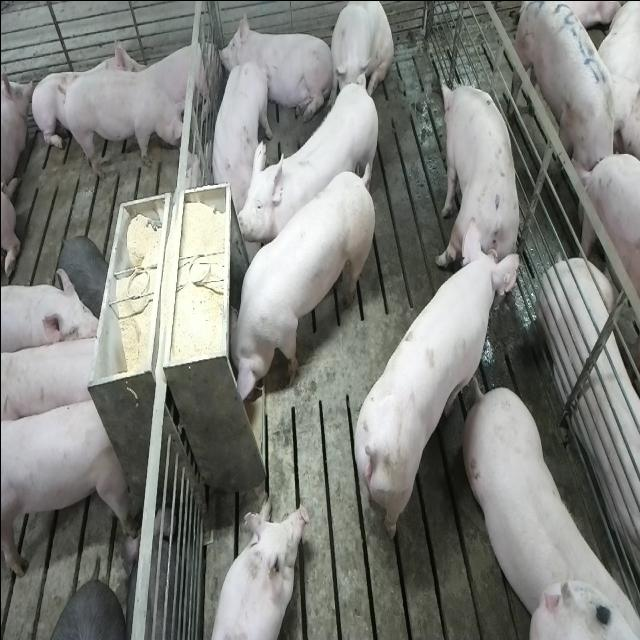Feeding: (218, 165, 370, 408)
Sitting: (328, 1, 392, 109)
Standing: (348, 240, 514, 548), (458, 377, 634, 632), (238, 76, 382, 256), (2, 390, 134, 584), (513, 0, 619, 203), (434, 74, 522, 276), (58, 66, 189, 177), (2, 332, 104, 428), (208, 60, 268, 211), (0, 268, 100, 356)
Sternal_lying: (539, 148, 640, 582), (205, 498, 306, 640), (32, 31, 142, 155), (218, 11, 330, 124), (140, 34, 213, 118)
